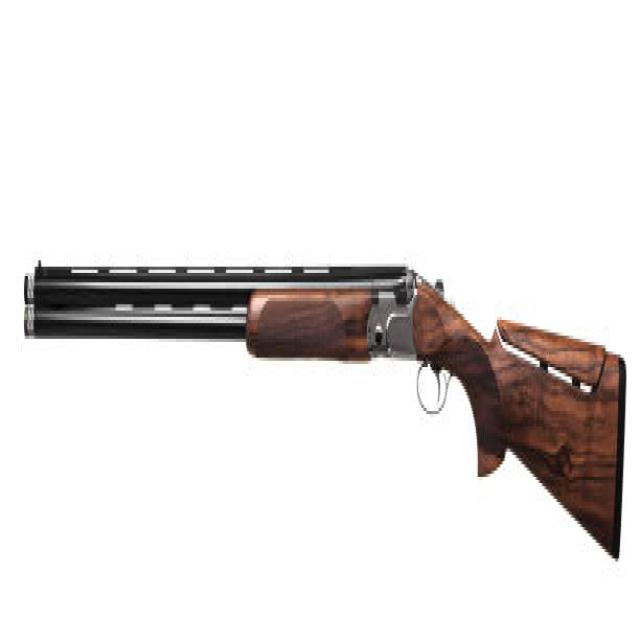rifle: (20, 226, 632, 577)
